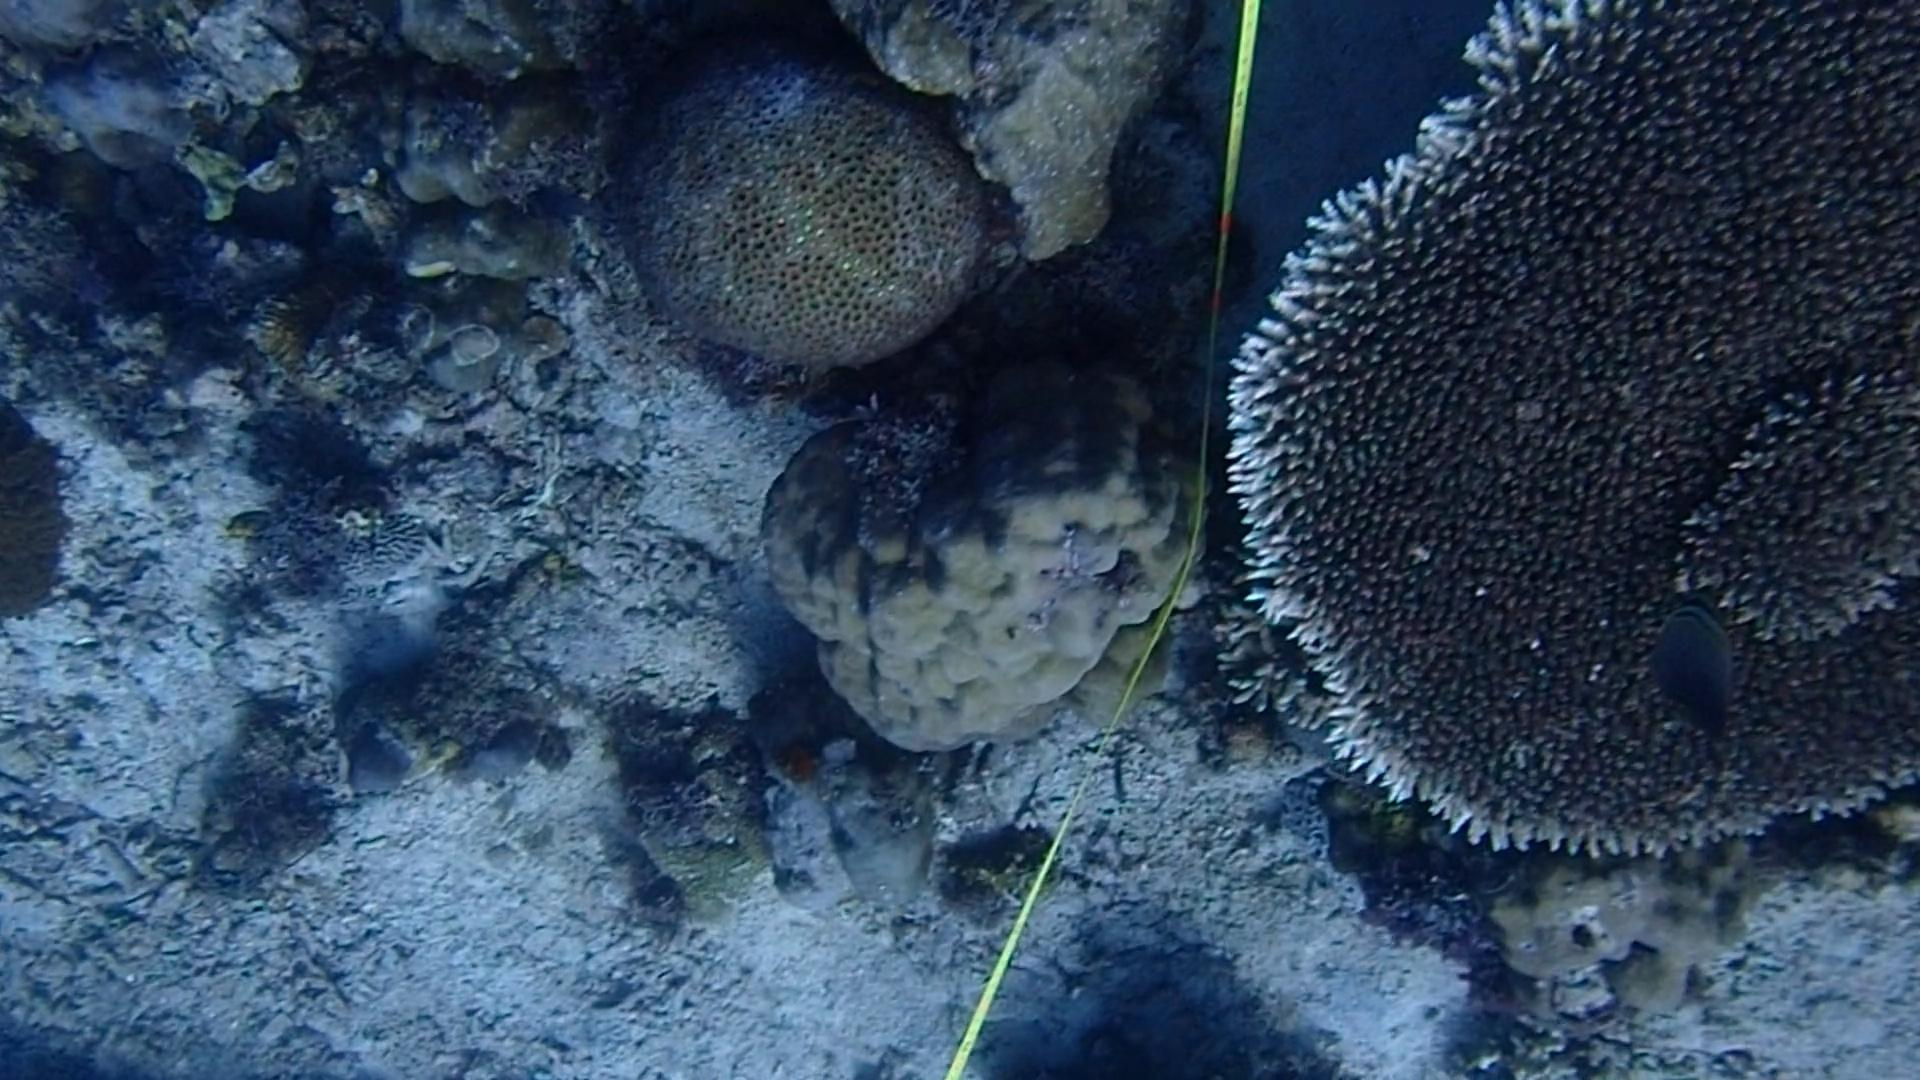Dark Blue Dory: (1636, 596, 1747, 753)
Light Fish: (517, 178, 600, 232)
